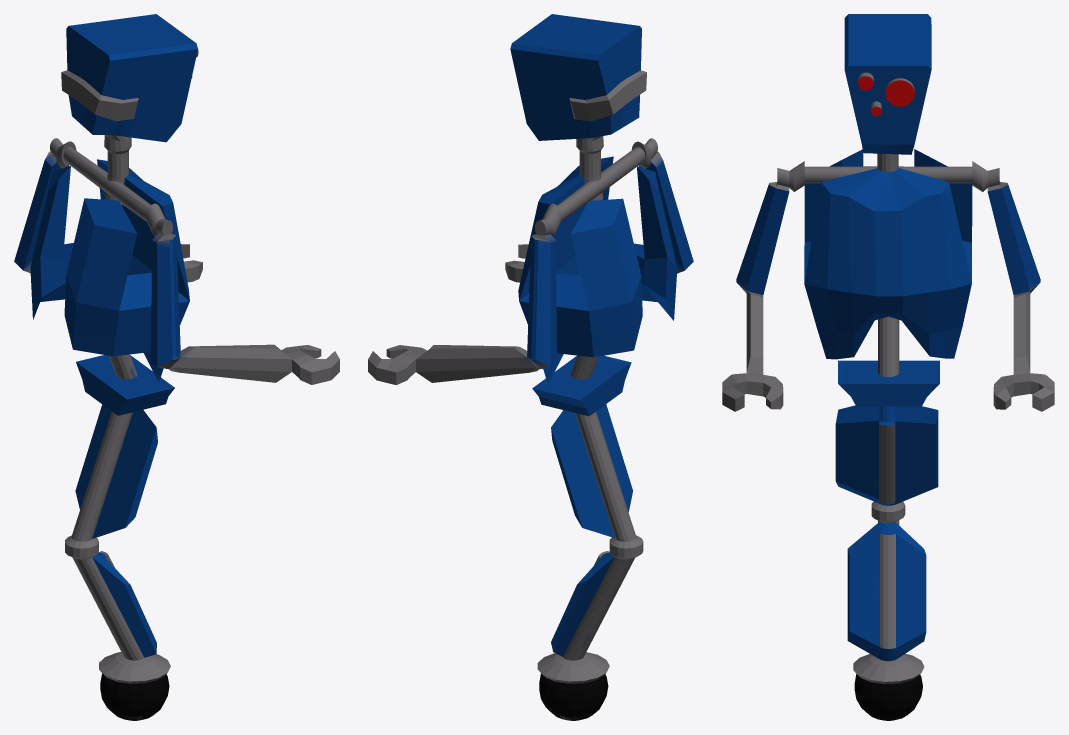
Rendered from player_blue.obj.
The picture shows the model from 3 angles, left to right: view 1: azimuth 30°, elevation 25°; view 2: azimuth 150°, elevation 25°; view 3: azimuth 270°, elevation 25°; orthographic projection.
Parts seen in each view (by area): view 1: Sphere_Sphere.002; view 2: Sphere_Sphere.002; view 3: Sphere_Sphere.002.
Part boxes in pixels (x1=…): Sphere_Sphere.002: x1=14, y1=14, x2=339, y2=720; Sphere_Sphere.002: x1=368, y1=14, x2=693, y2=720; Sphere_Sphere.002: x1=722, y1=14, x2=1054, y2=720.
Size of the model in its own units: 6.9 by 21.73 by 9.61.
Materials: 1 (1 with a texture image).
